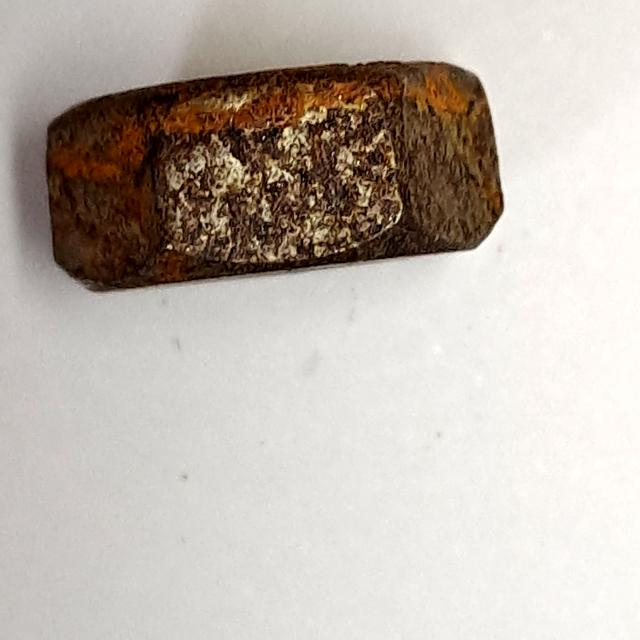Side_Rust: (34, 51, 530, 306)
